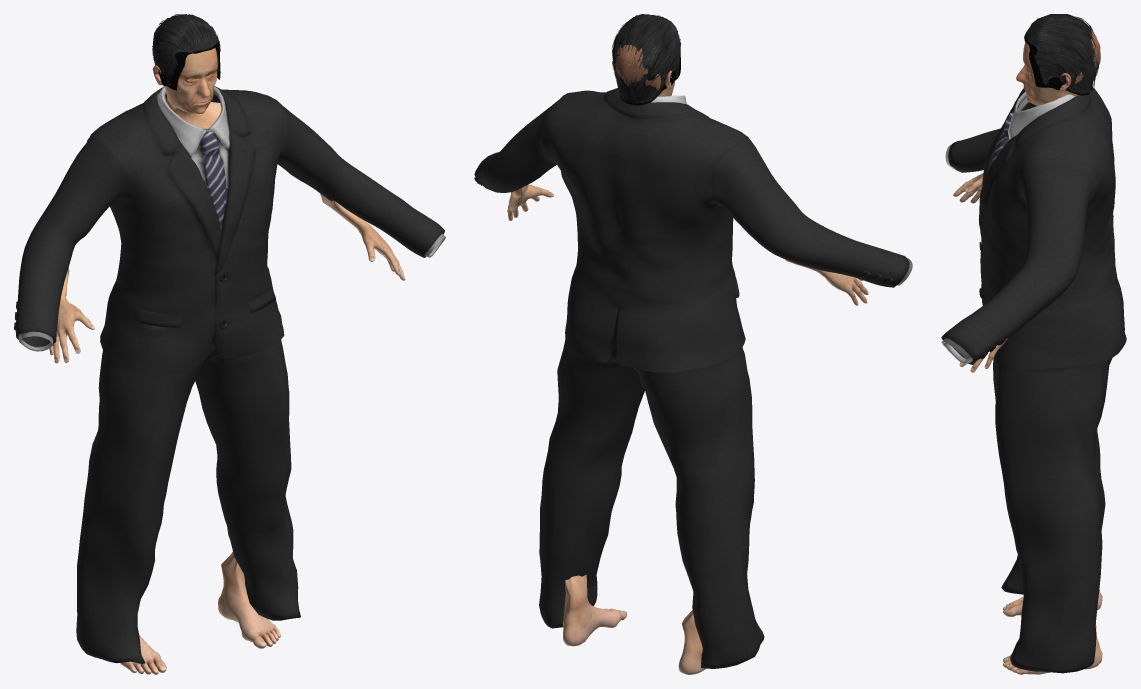
Rendered from grant.glb.
The picture shows the model from 3 angles, left to right: view 1: azimuth 30°, elevation 25°; view 2: azimuth 150°, elevation 25°; view 3: azimuth 270°, elevation 25°; orthographic projection.
Parts seen in each view (by area): view 1: clothes_male_elegantsuit01, Human, hair_short04; view 2: clothes_male_elegantsuit01, Human, hair_short04; view 3: clothes_male_elegantsuit01, hair_short04, Human.
Boxes of the visible parts, box(x1,y1,x2,y2) form: clothes_male_elegantsuit01: box(14, 86, 445, 663); Human: box(49, 48, 405, 674); hair_short04: box(152, 14, 220, 90); clothes_male_elegantsuit01: box(474, 88, 912, 668); Human: box(507, 44, 868, 674); hair_short04: box(612, 14, 681, 105); clothes_male_elegantsuit01: box(941, 88, 1126, 673); hair_short04: box(1024, 14, 1098, 95); Human: box(953, 31, 1102, 674).
Bounding box in the file's own units: 1.32 × 1.85 × 0.4979.
4 materials, 4 textured.
